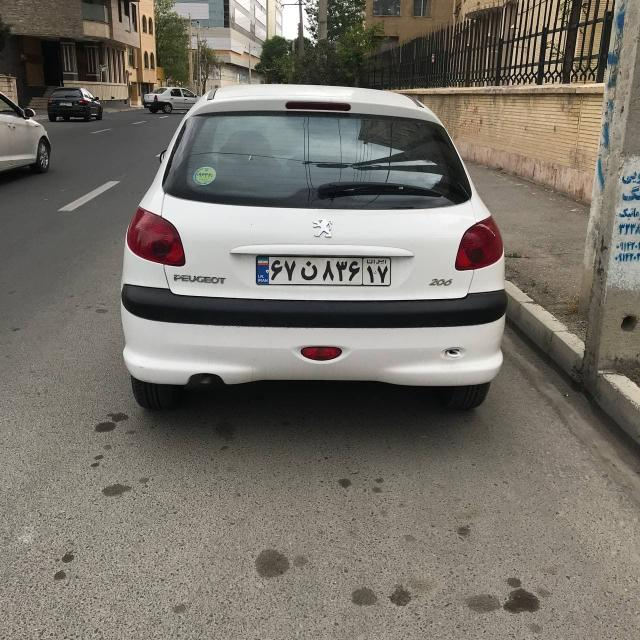Plates: (255, 256, 392, 287)
